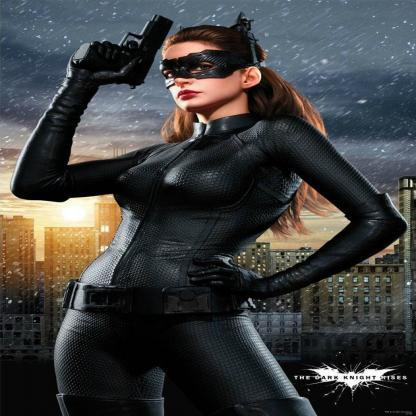gun: (74, 0, 176, 91)
